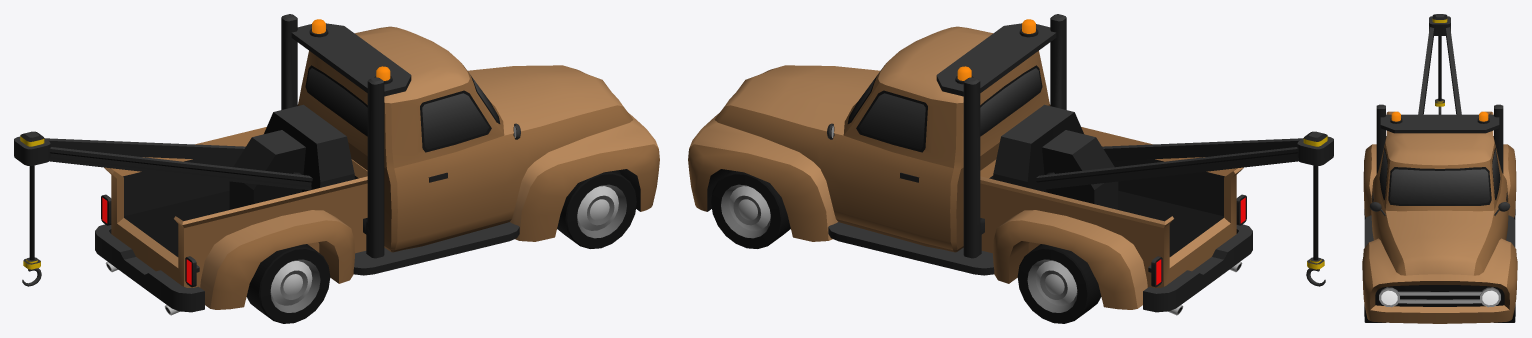
Rendered from Emergency_013.glb.
The picture shows the model from 3 angles, left to right: view 1: azimuth 30°, elevation 25°; view 2: azimuth 150°, elevation 25°; view 3: azimuth 270°, elevation 25°; orthographic projection. The views are drawn at different scales.
Visible parts, largest first — view 1: Emergency_013, wheel_3_Emergency_013_Wheel_2R, wheel_1_Emergency_013_Wheel_1R; view 2: Emergency_013, wheel_2_Emergency_013_Wheel_2L, wheel_0_Emergency_013_Wheel_1L; view 3: Emergency_013.
Part boxes in pixels (left/top/right/bottom): Emergency_013: left=14, top=14, right=659, bottom=315; wheel_3_Emergency_013_Wheel_2R: left=246, top=244, right=330, bottom=323; wheel_1_Emergency_013_Wheel_1R: left=557, top=170, right=636, bottom=248; Emergency_013: left=688, top=14, right=1333, bottom=315; wheel_2_Emergency_013_Wheel_2L: left=1017, top=244, right=1101, bottom=323; wheel_0_Emergency_013_Wheel_1L: left=711, top=170, right=790, bottom=248; Emergency_013: left=1362, top=14, right=1517, bottom=323.
Size of the model in its own units: 5.97 by 2.04 by 2.
2 materials, 2 textured.
